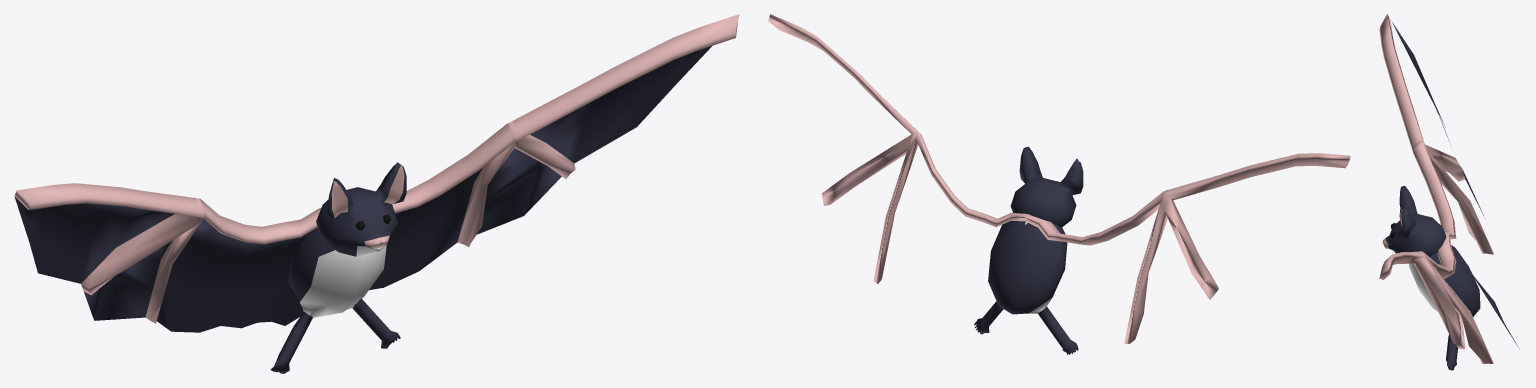
The model's file is NOVELO_BAT.obj.
3 views of the same model, side by side, from view 1: azimuth 30°, elevation 25°; view 2: azimuth 150°, elevation 25°; view 3: azimuth 270°, elevation 25° (orthographic). The views are drawn at different scales.
Parts seen in each view (by area): view 1: Symmetry; view 2: Symmetry; view 3: Symmetry.
Part boxes in pixels (x1,y1,x2,y2): Symmetry: (14,14,739,373); Symmetry: (768,14,1350,354); Symmetry: (1379,14,1519,370).
Size of the model in its own units: 512 by 198 by 121.
